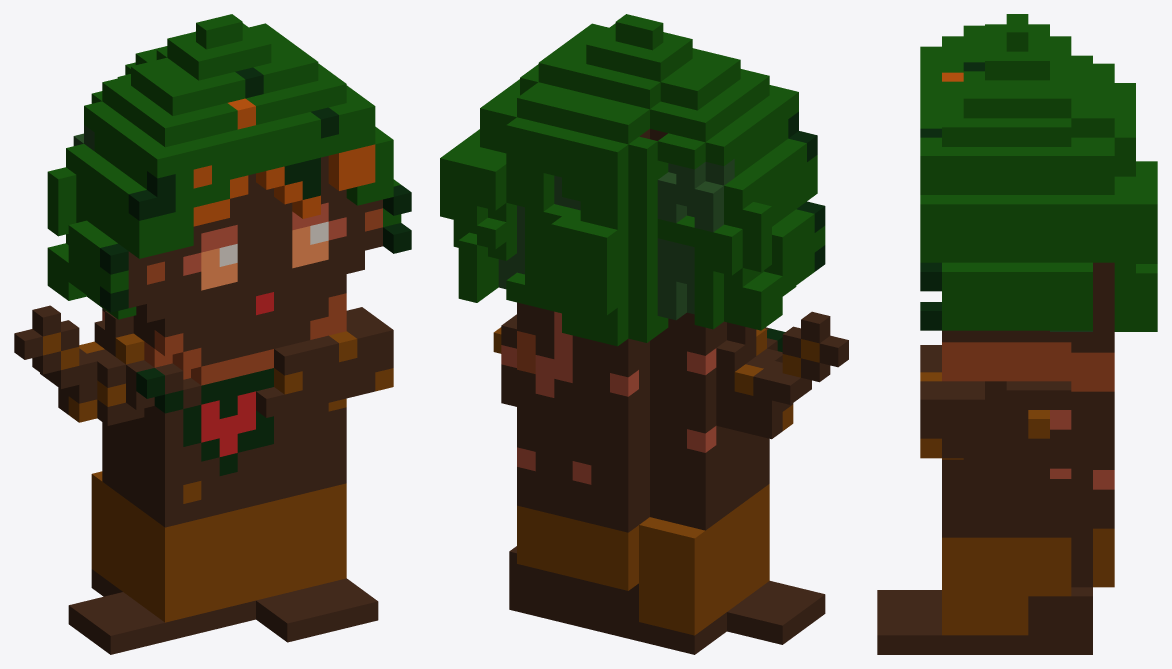
The model's file is Jesica_Alejandra_Piñeros_Garcia_fase_5.obj.
3 renders of one model, left to right at view 1: azimuth 30°, elevation 25°; view 2: azimuth 150°, elevation 25°; view 3: azimuth 270°, elevation 25°, orthographic. The views are drawn at different scales.
Visible parts, largest first — view 1: Jesica_Alejandra_Piñeros_Garcia_fase_5; view 2: Jesica_Alejandra_Piñeros_Garcia_fase_5; view 3: Jesica_Alejandra_Piñeros_Garcia_fase_5.
Boxes of the visible parts, x1=… form: Jesica_Alejandra_Piñeros_Garcia_fase_5: x1=14, y1=14, x2=411, y2=654; Jesica_Alejandra_Piñeros_Garcia_fase_5: x1=440, y1=14, x2=848, y2=654; Jesica_Alejandra_Piñeros_Garcia_fase_5: x1=877, y1=14, x2=1157, y2=654.
Bounding box in the file's own units: 19 × 30 × 13.
Materials: 1 (1 with a texture image).
